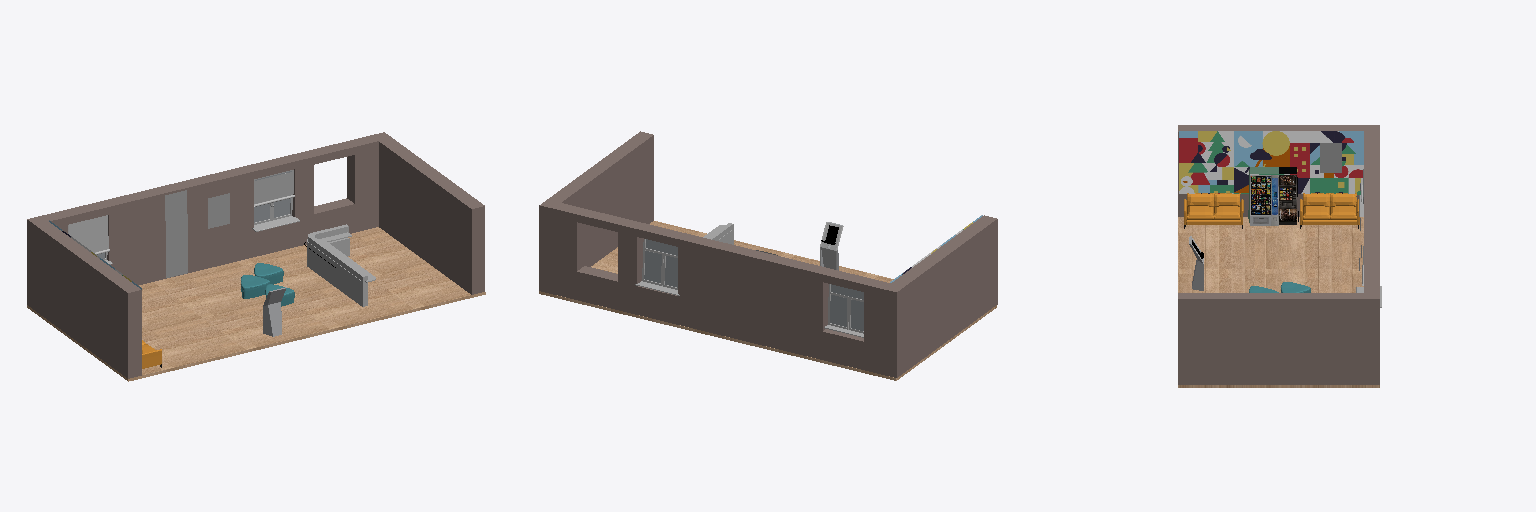
The picture shows the model from 3 angles: view 1: azimuth 30°, elevation 25°; view 2: azimuth 150°, elevation 25°; view 3: azimuth 270°, elevation 25°; orthographic projection.
Visible parts, largest first — view 1: Group_1071, Box003, Grid, L-Ext007, Circle038, Plane2584, Circle037, Object9429, Group_001, Grid.009, Cylinder14.Cylinder10.Cylinder11.001_Cylinder14.001; view 2: Group_1071, Box003, Plane2584, Plane2585, Group_001; view 3: Group_1071, Box003, Grid.001, Box437, Box444, Grid.005, Grid.002, Grid.008.
Boxes of the visible parts, box(x1,y1,x2,y2) form: Group_1071: box(27, 132, 484, 378); Box003: box(27, 227, 485, 381); Grid: box(165, 190, 187, 277); L-Ext007: box(307, 238, 367, 306); Circle038: box(69, 215, 109, 254); Plane2584: box(252, 170, 299, 231); Circle037: box(254, 172, 294, 206); Object9429: box(308, 224, 367, 282); Group_001: box(263, 287, 286, 336); Grid.009: box(208, 193, 229, 228); Cylinder14.Cylinder10.Cylinder11.001_Cylinder14.001: box(241, 275, 269, 298); Group_1071: box(539, 131, 997, 377); Box003: box(539, 221, 996, 380); Plane2584: box(635, 239, 679, 295); Plane2585: box(824, 284, 863, 337); Group_001: box(820, 222, 843, 270); Group_1071: box(1178, 125, 1379, 384); Box003: box(1178, 217, 1379, 387); Grid.001: box(1179, 131, 1363, 194); Box437: box(1300, 193, 1359, 228); Box444: box(1184, 193, 1243, 228); Grid.005: box(1250, 175, 1278, 225); Grid.002: box(1279, 175, 1296, 224); Grid.008: box(1320, 143, 1341, 172).
Size of the model in its own units: 1.31 by 0.3143 by 0.6455.
31 materials, 4 textured.